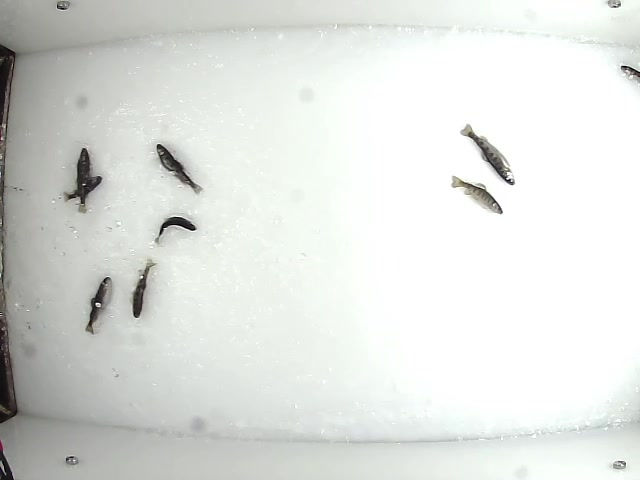fish: (458, 121, 517, 187), (156, 141, 204, 197), (449, 174, 505, 218), (81, 275, 112, 336), (128, 256, 155, 321), (75, 144, 95, 217), (151, 216, 198, 247), (60, 175, 104, 205)
